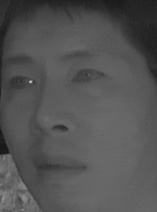eye: (66, 66, 108, 86), (4, 71, 39, 92)
mouth: (29, 149, 89, 186)
